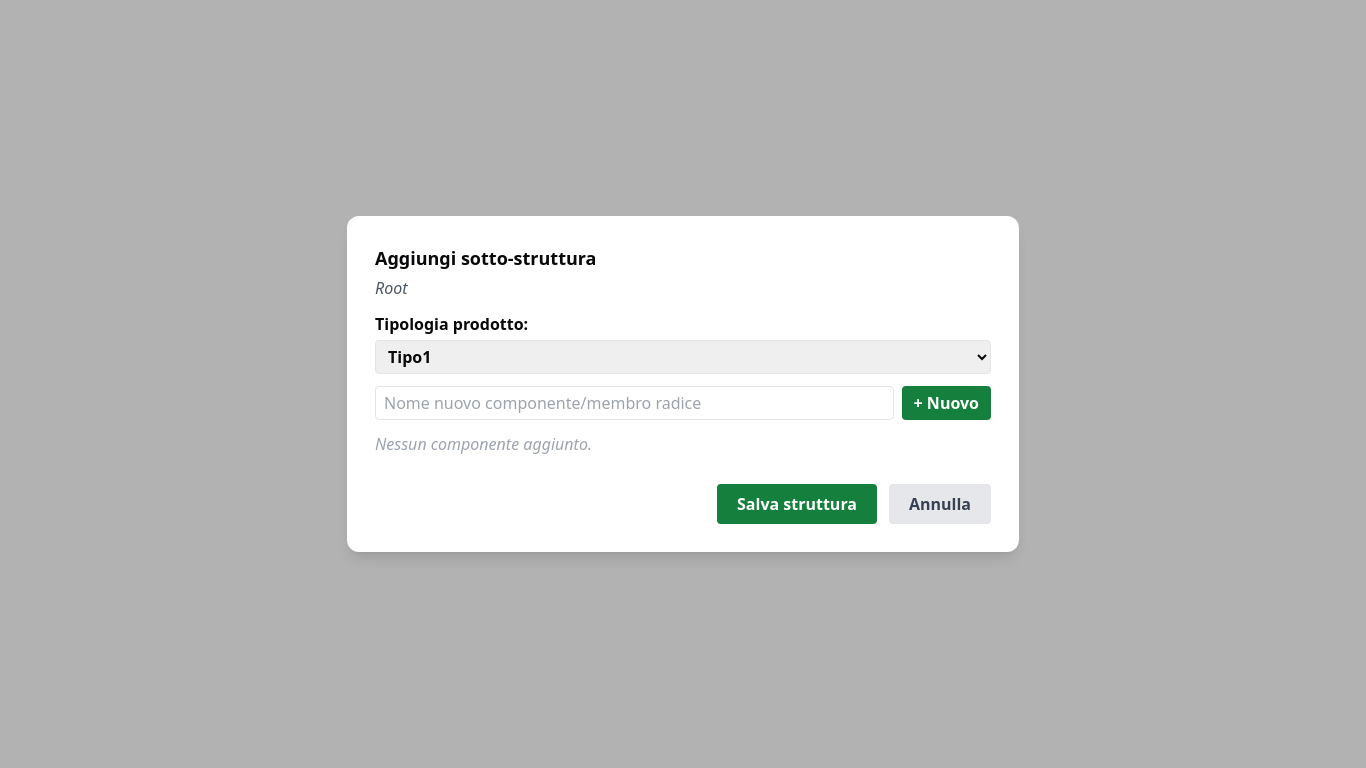
Test: AddNodeModal › permette di aggiungere un sotto-componente
Type "Comp1" into the field with placeholder "Nome nuovo componente/membro radice" at (634, 403), box [375, 386, 894, 420]
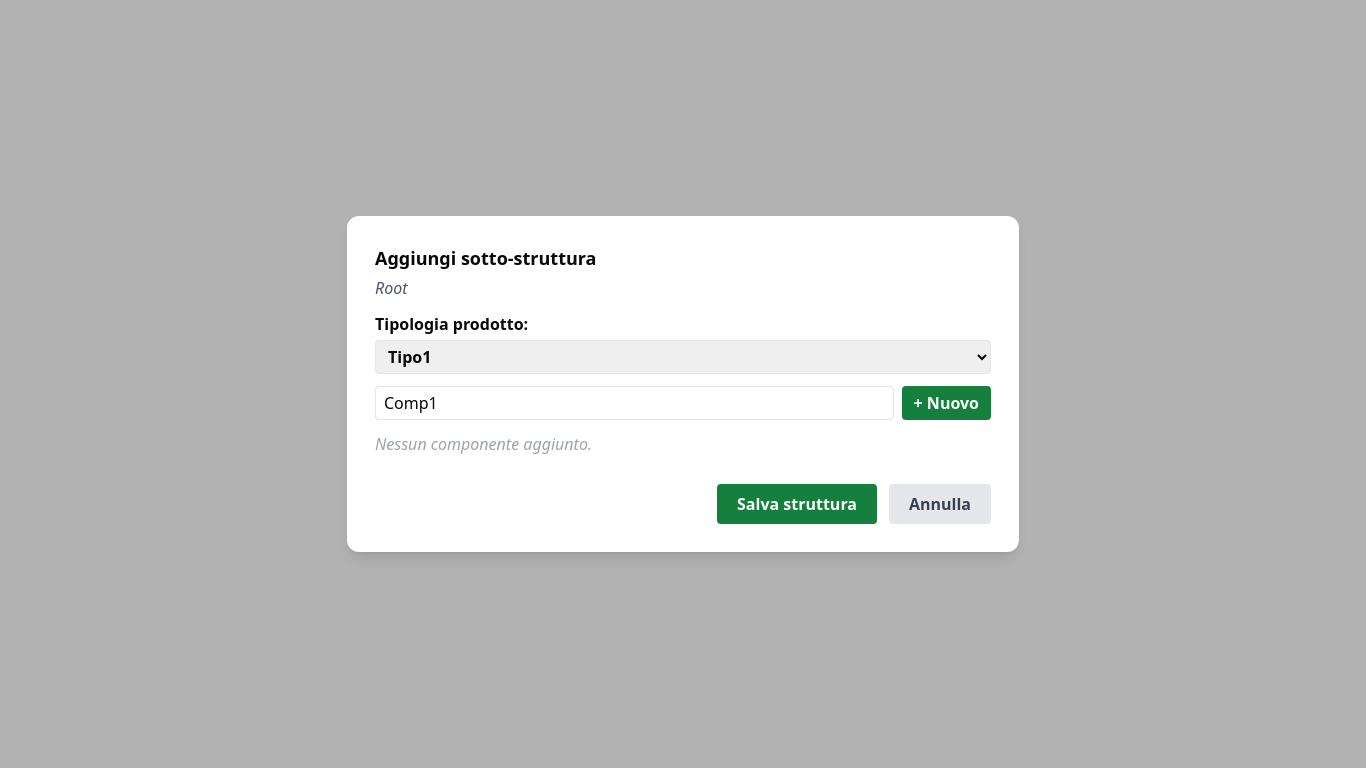
Click the button "+ Nuovo" at (946, 403), box [902, 386, 991, 420]
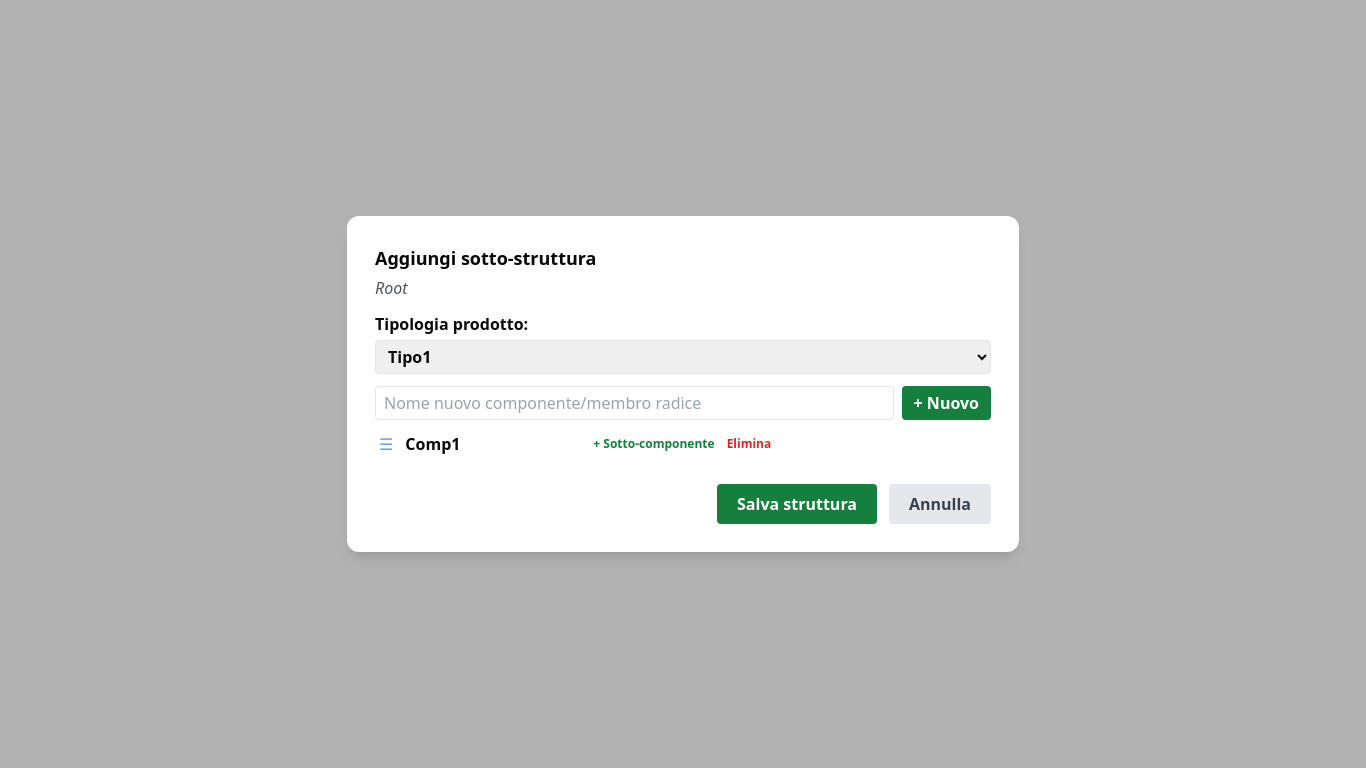
Click the button "+ Sotto-componente" at (654, 444), box [593, 436, 715, 452]
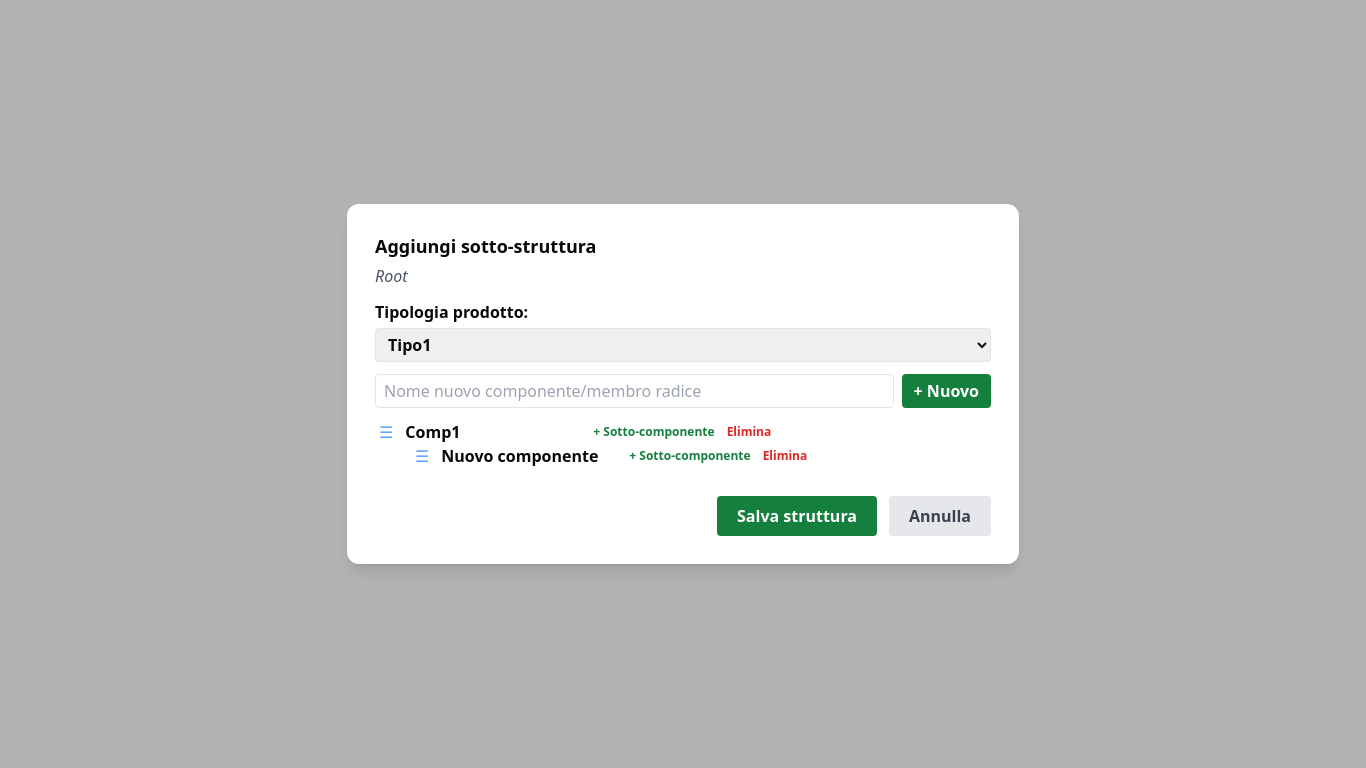
expect the text "Nuovo componente" is shown: met, box [441, 444, 617, 468]
